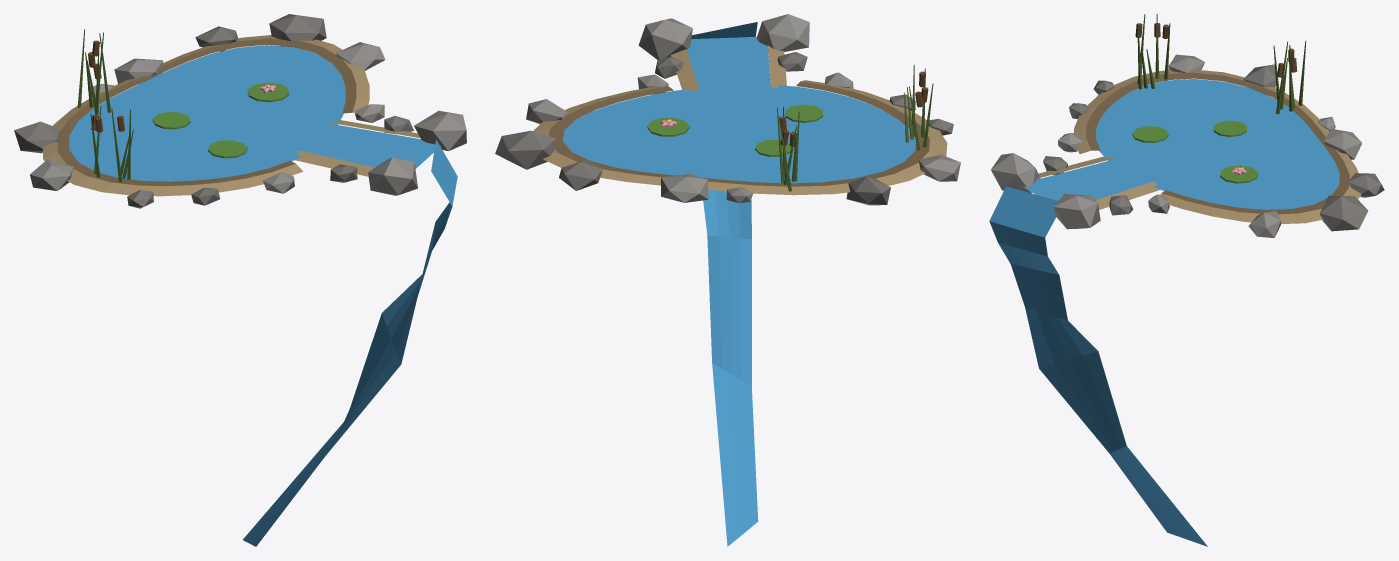
File: water.glb
3 views of the same model, side by side, from view 1: azimuth 30°, elevation 25°; view 2: azimuth 150°, elevation 25°; view 3: azimuth 270°, elevation 25° (orthographic). The views are drawn at different scales.
Parts seen in each view (by area): view 1: water; view 2: water; view 3: water.
Part boxes in pixels (box(x1,y1,x2,y2)): water: box(14, 14, 466, 546); water: box(495, 14, 960, 546); water: box(989, 14, 1384, 546).
Bounding box in the file's own units: 2.74 × 3.36 × 2.61.
